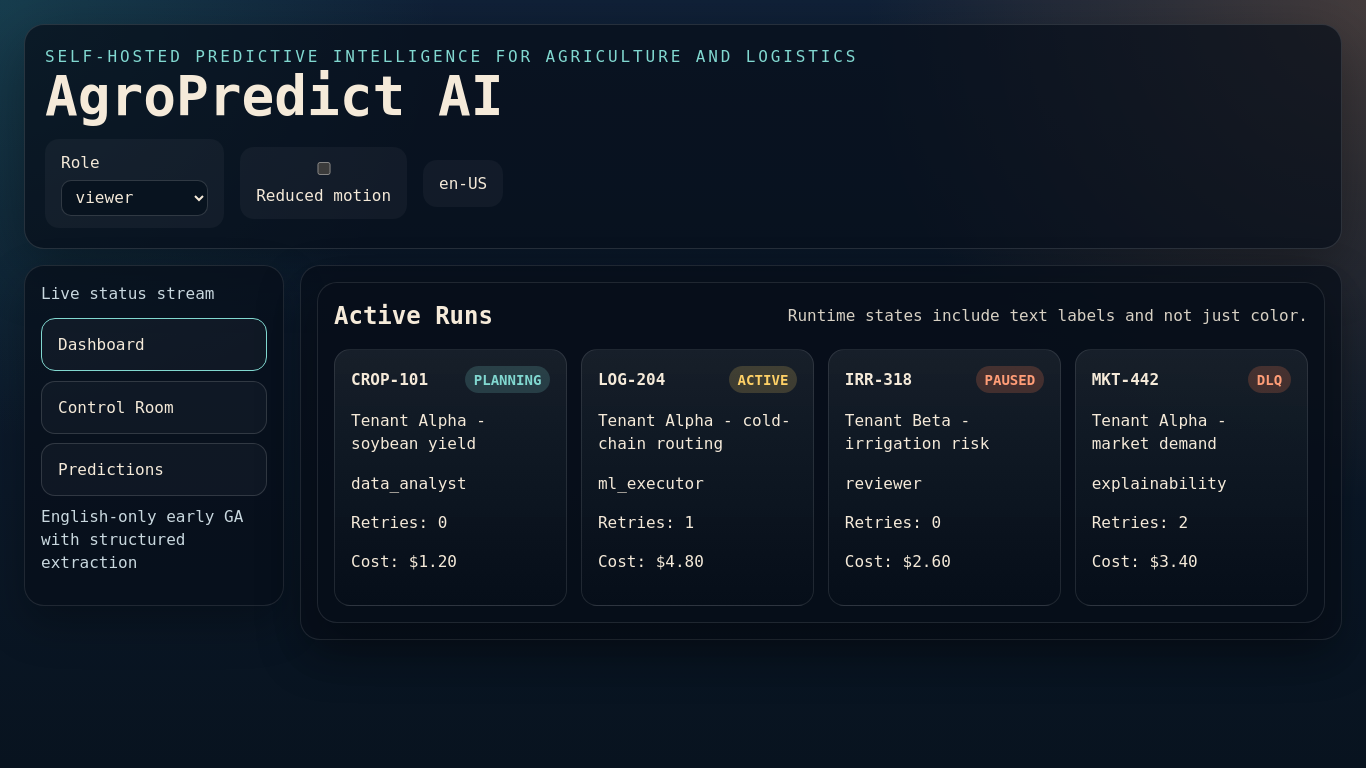
Test: App › shows graph validation feedback for an invalid candidate
Select "admin" in the dropdown labelled "Role" at (135, 198), box x1=61 y1=180 x2=208 y2=216
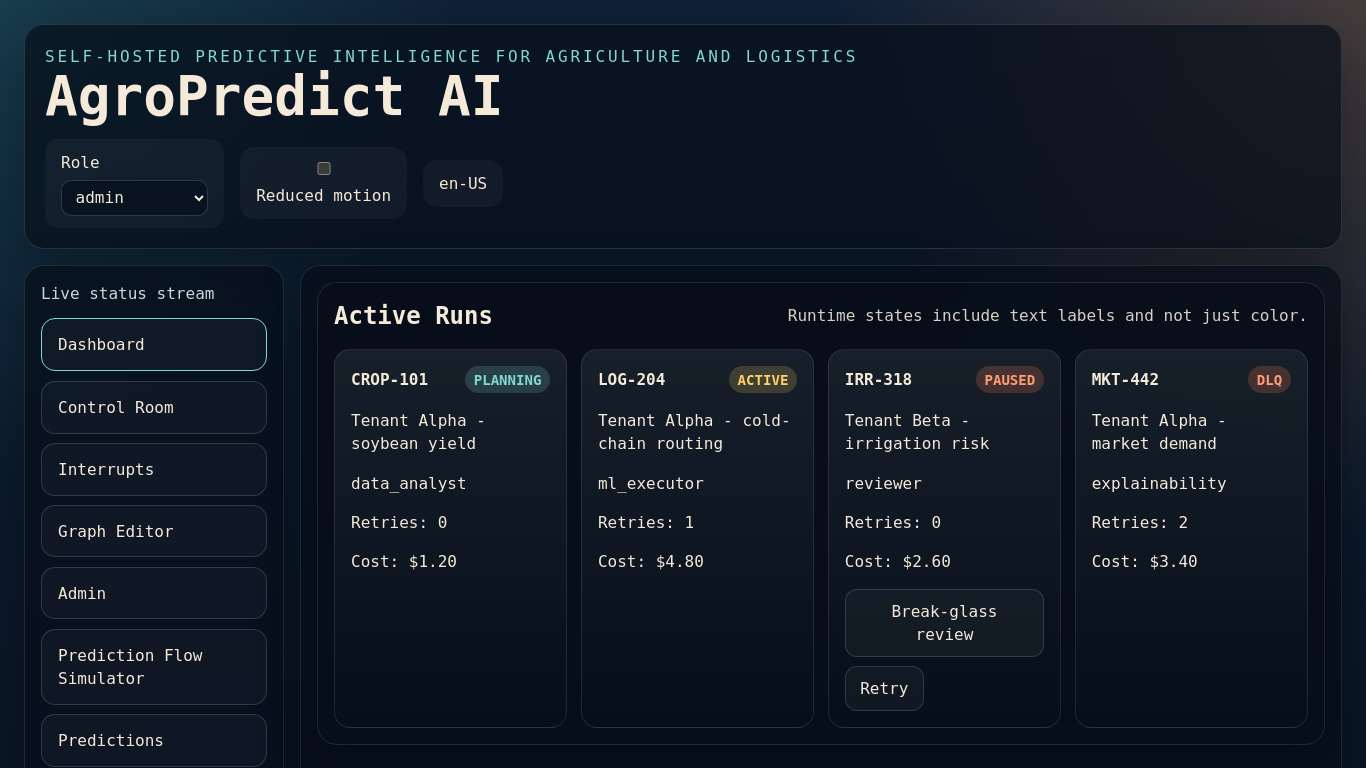
Click the button "Graph Editor" at (154, 531), box x1=41 y1=505 x2=267 y2=558
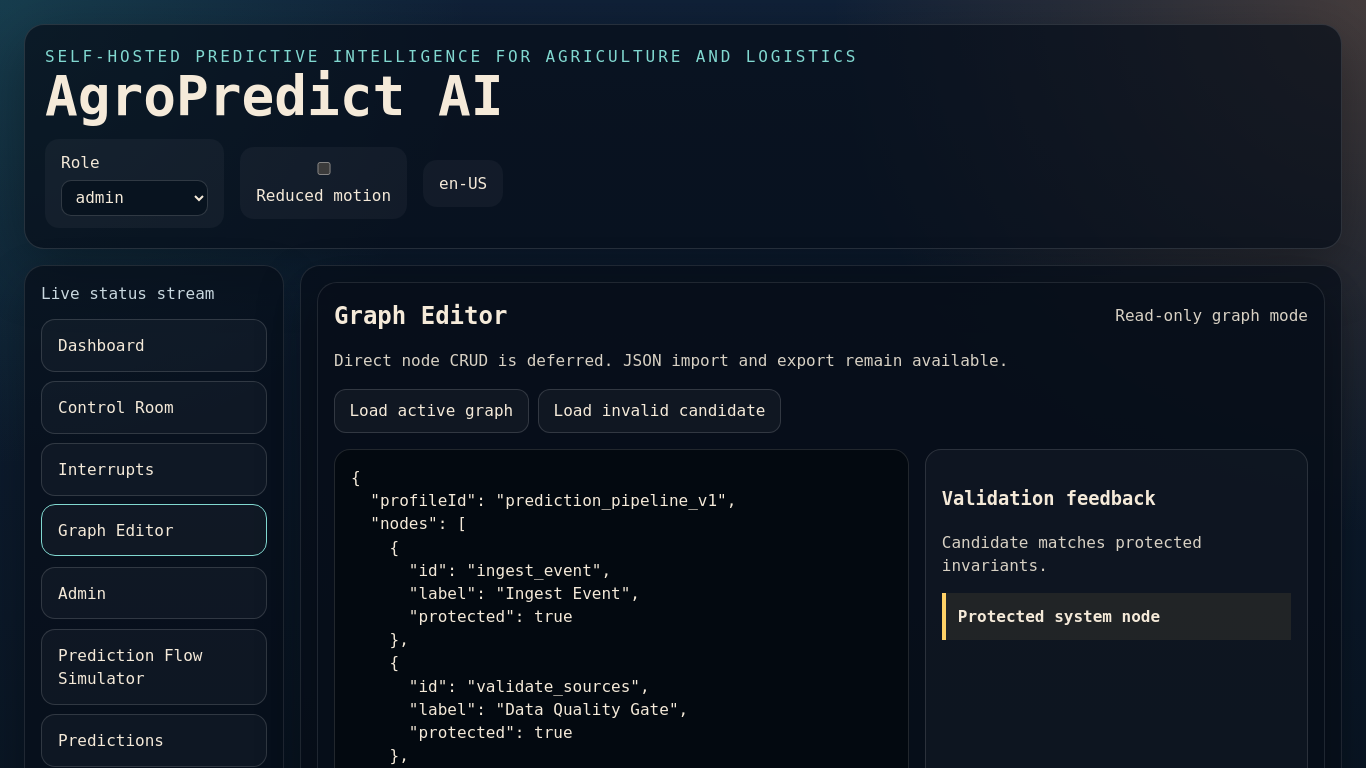
Click the button "Load invalid candidate" at (659, 411), box x1=538 y1=389 x2=781 y2=433
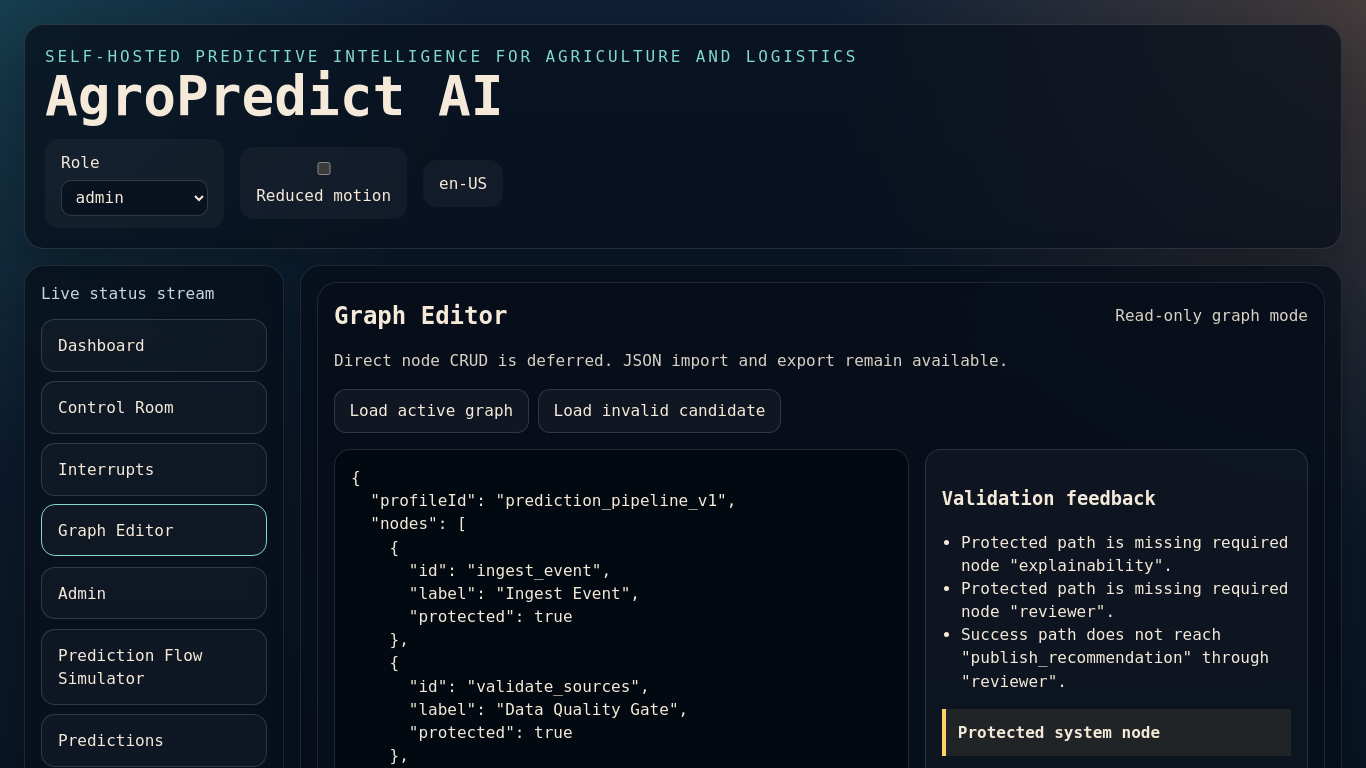
Result: the list item "Protected path is missing required node \"reviewer\"." is shown at x1=961 y1=577 x2=1291 y2=623
